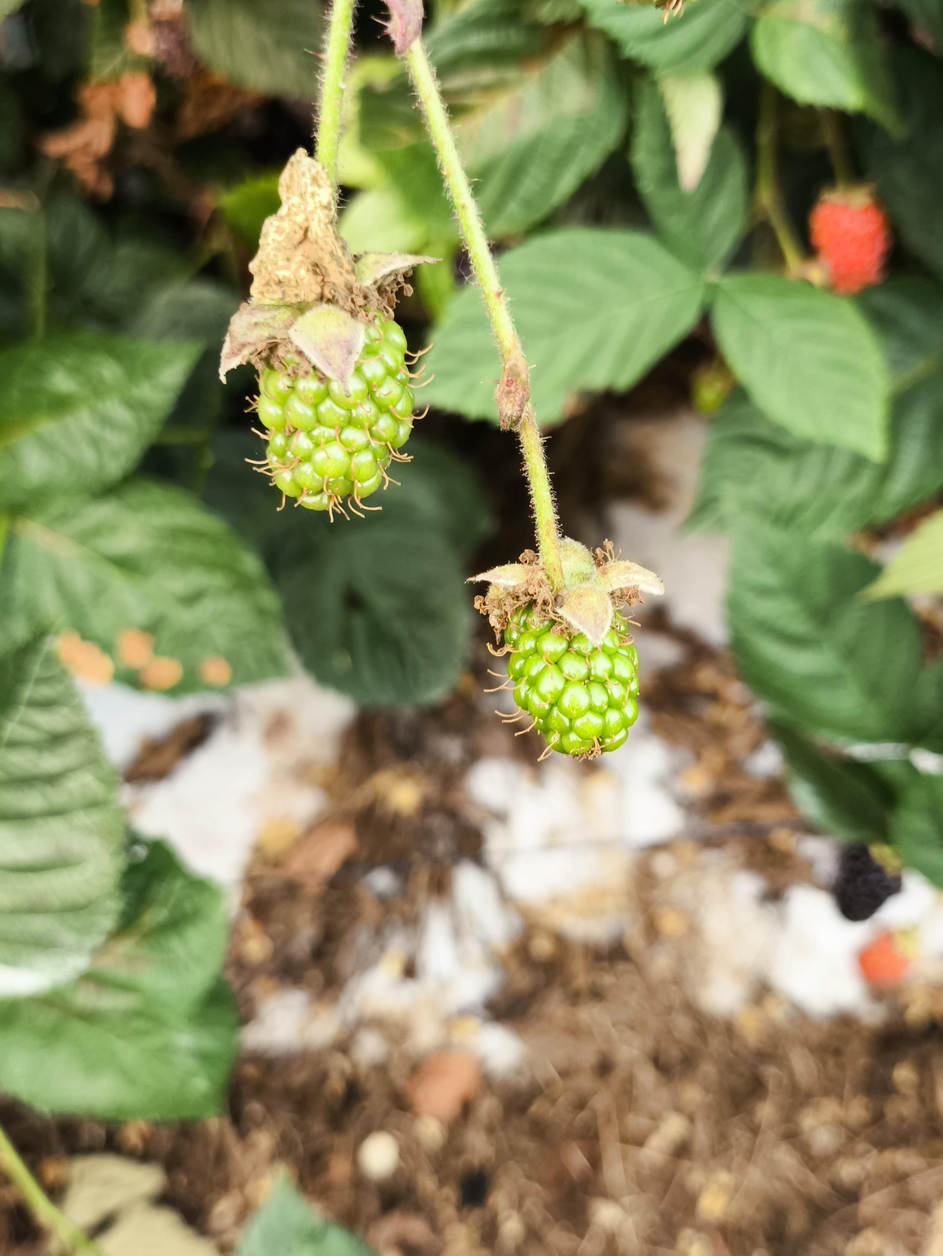maduro: (833, 843, 901, 920)
naranja: (810, 192, 891, 294)
verde: (219, 287, 414, 517), (505, 605, 639, 757)
